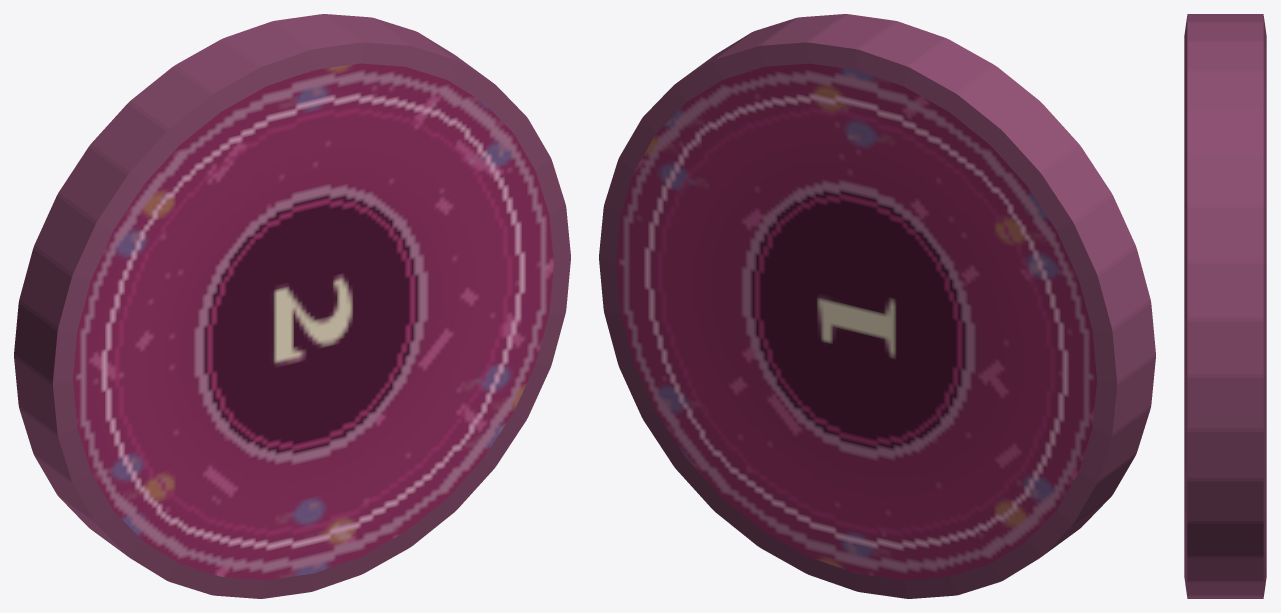
3 renders of one model, left to right at view 1: azimuth 30°, elevation 25°; view 2: azimuth 150°, elevation 25°; view 3: azimuth 270°, elevation 25°, orthographic. The views are drawn at different scales.
Bounding box in the file's own units: 101 × 101 × 14.14.
1 material, 1 textured.
